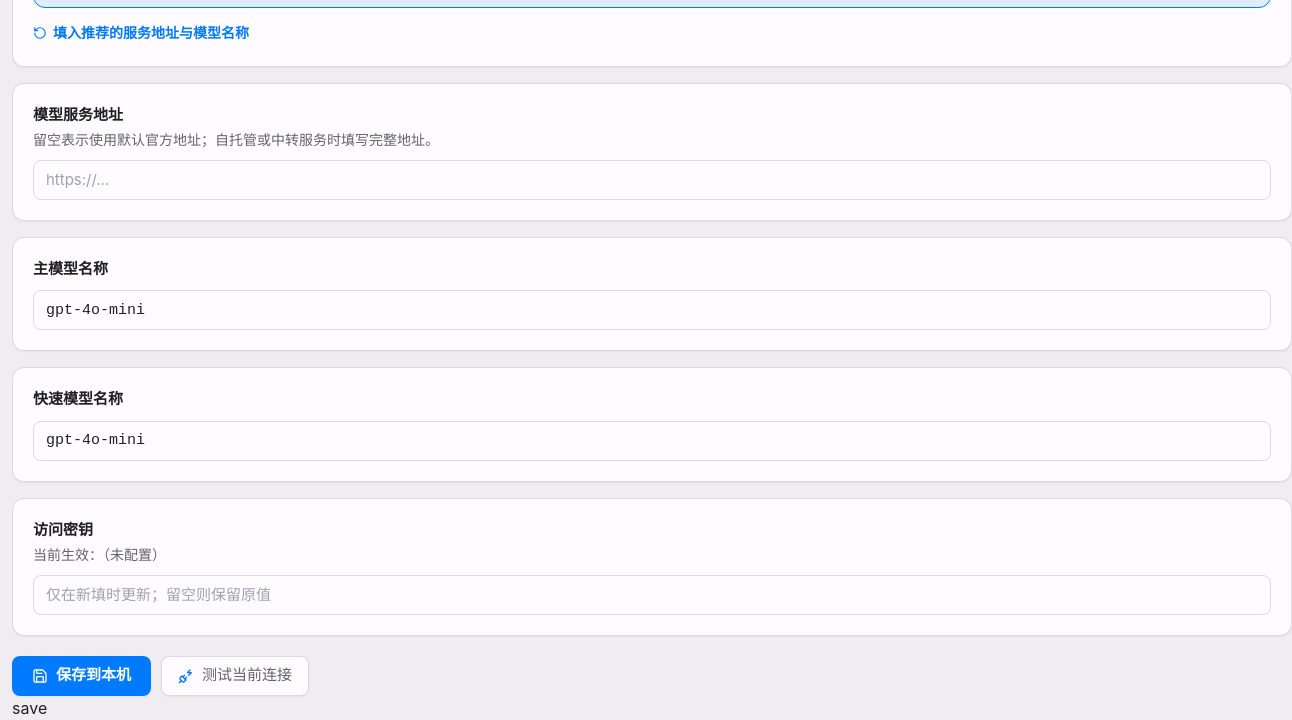
AgentModelSettingsForm › tests the effective saved connection and shows the verified model
The width and height of the screenshot is (1292, 720).
(page scrolled)
Click the button "测试当前连接" at (235, 676), box [161,656,309,696]
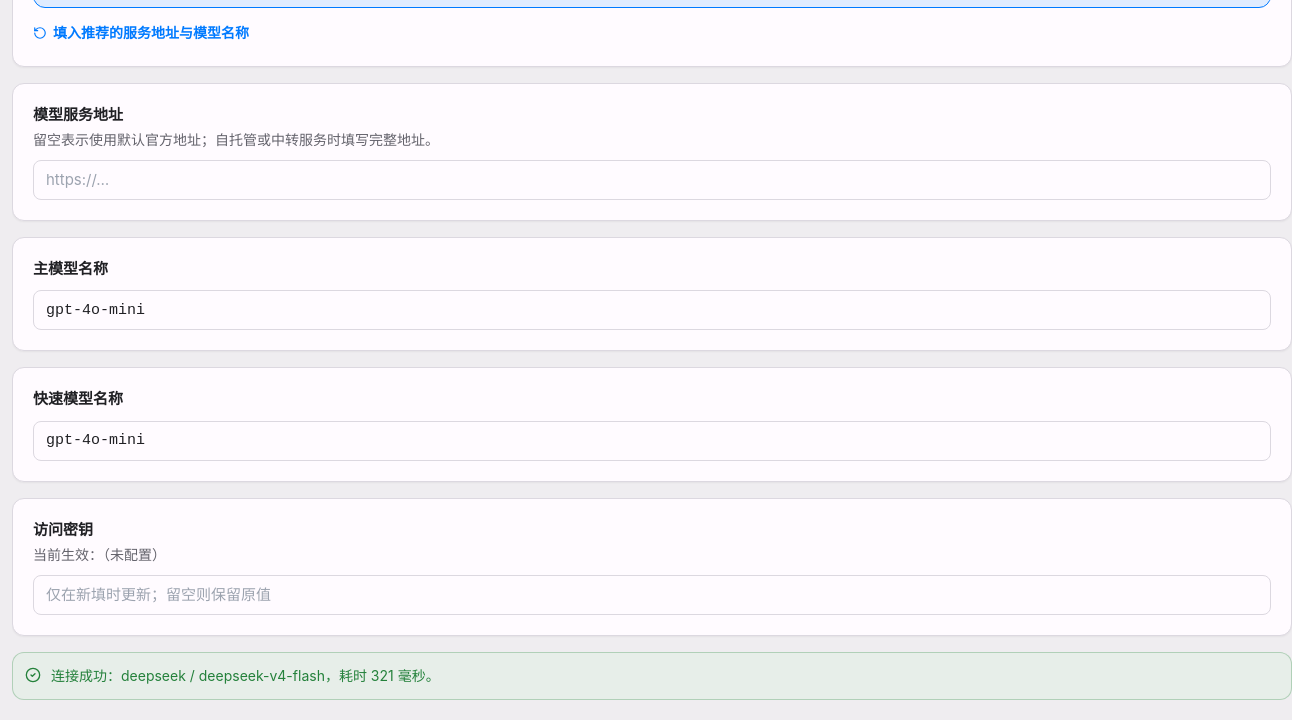
Check: the text "连接成功：deepseek / deepseek-v4-flash，耗时 321 毫秒。" is shown, box [51,665,440,688]
